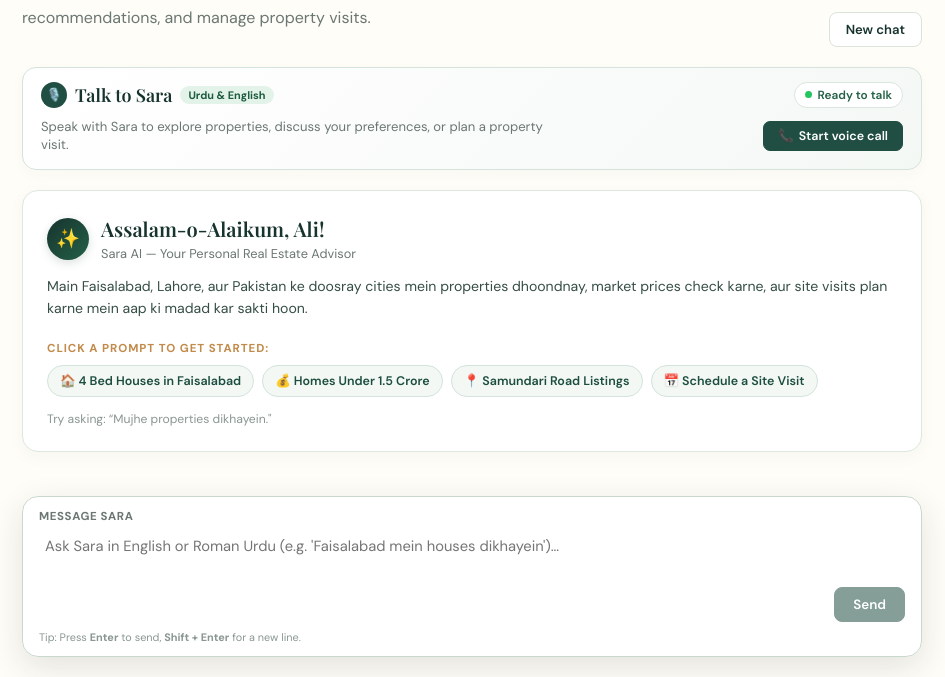
Test: displays a safe error and keeps the draft
(page scrolled)
Replace the text in the text box labelled "Message Sara" with "Options dikha dein". click: (432, 577)
box: [39,532,824,622]
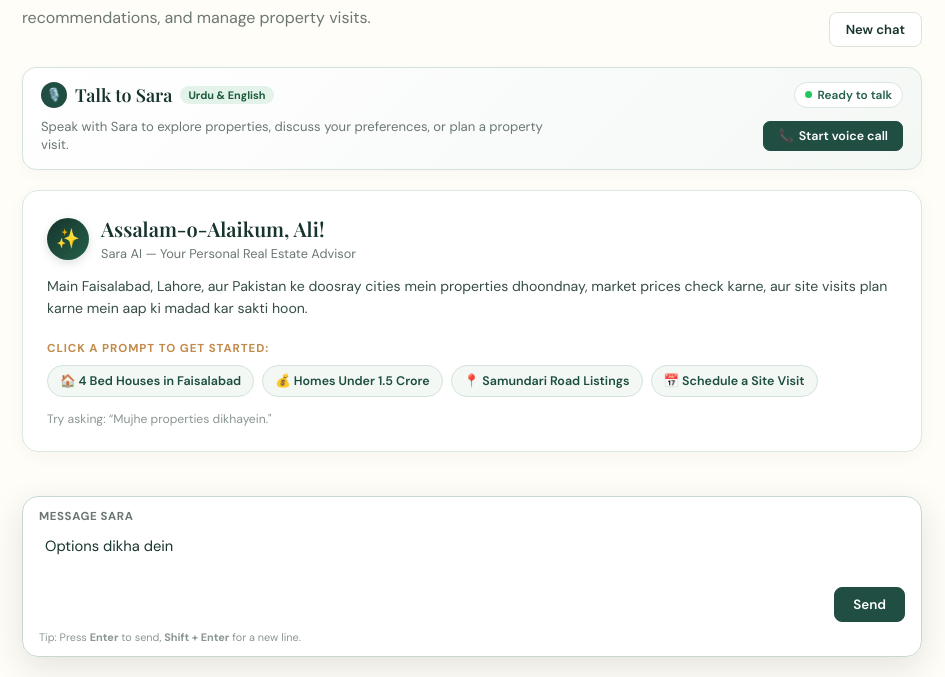
Click the button "Send". click: (870, 604)
box: [834,587,905,622]
(page scrolled)
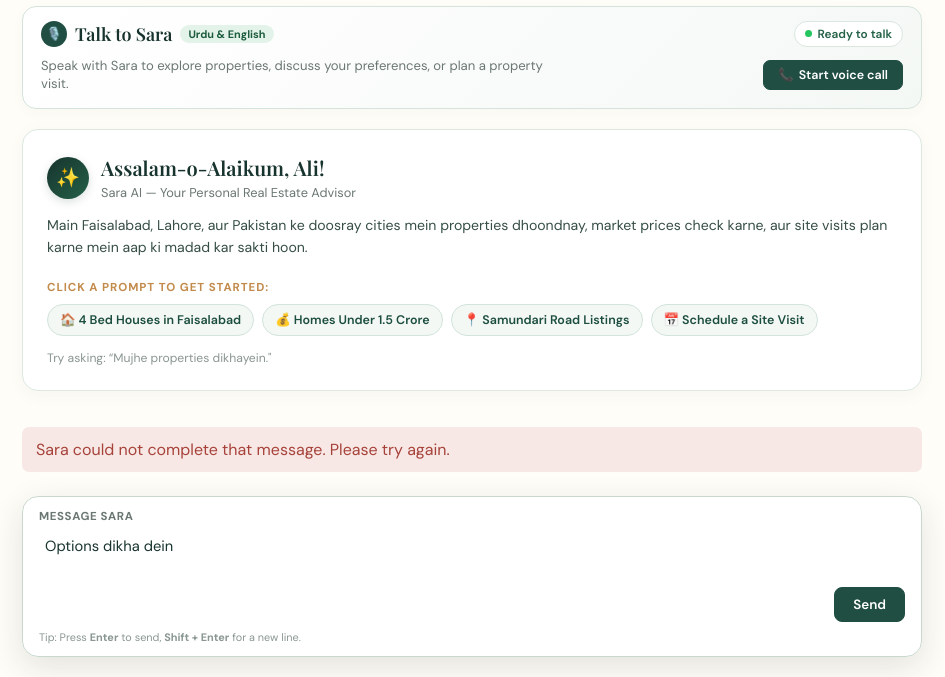
Expected: the message shows "could not complete", [36,439,450,460]
